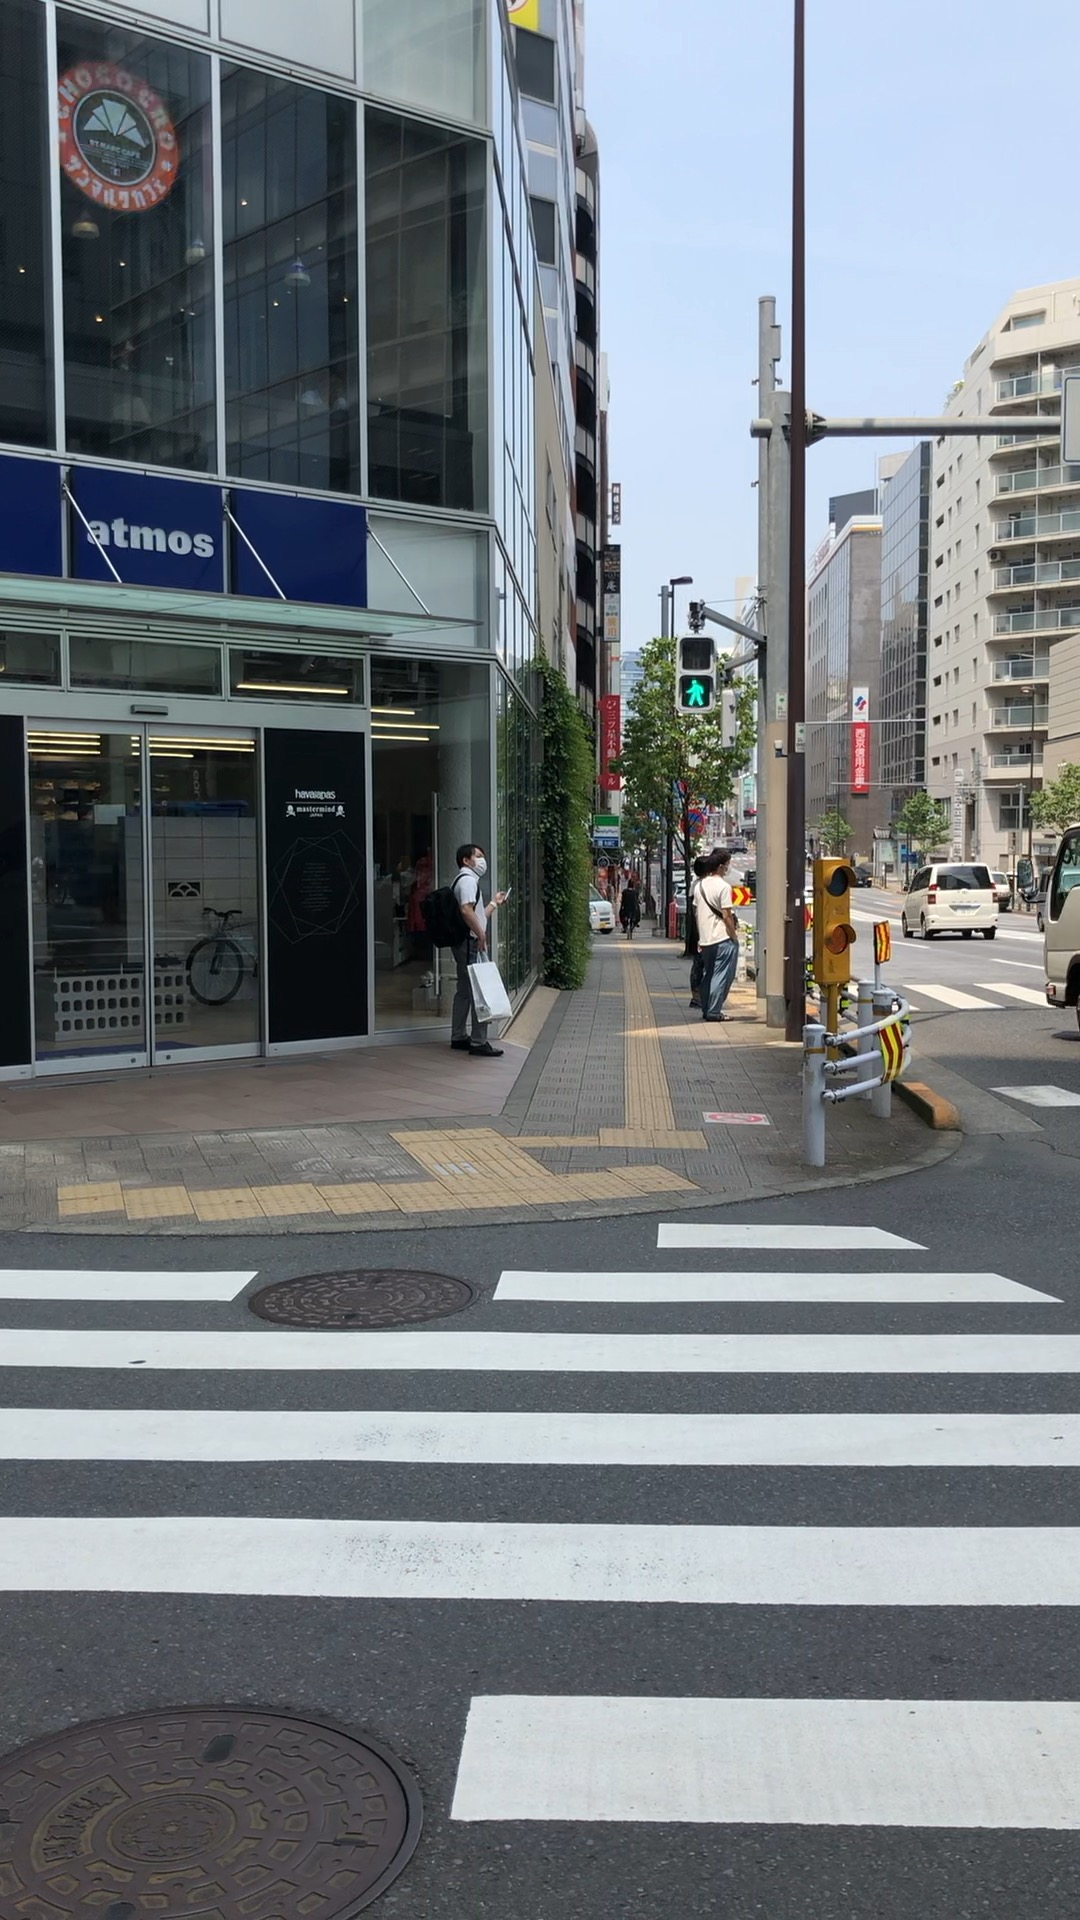green: (674, 634, 716, 713)
